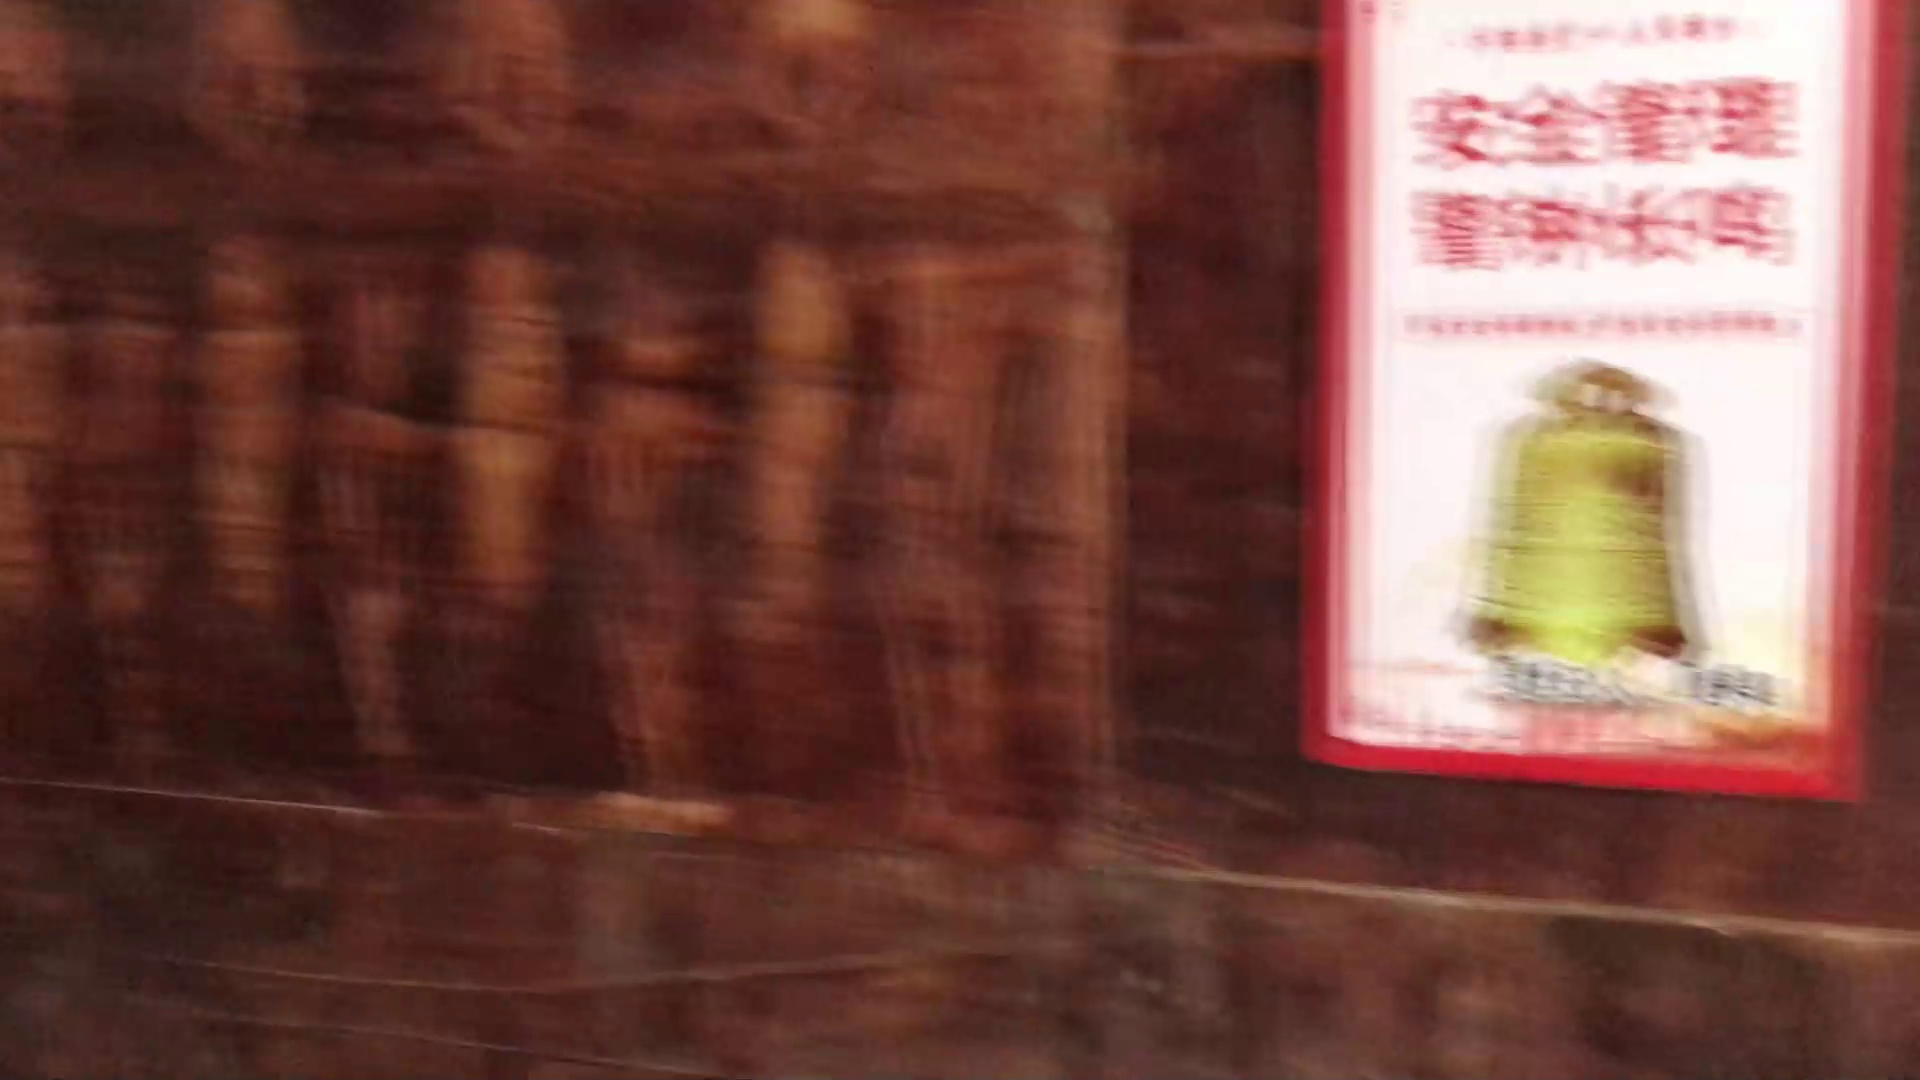slogan: (1302, 1, 1920, 802)
